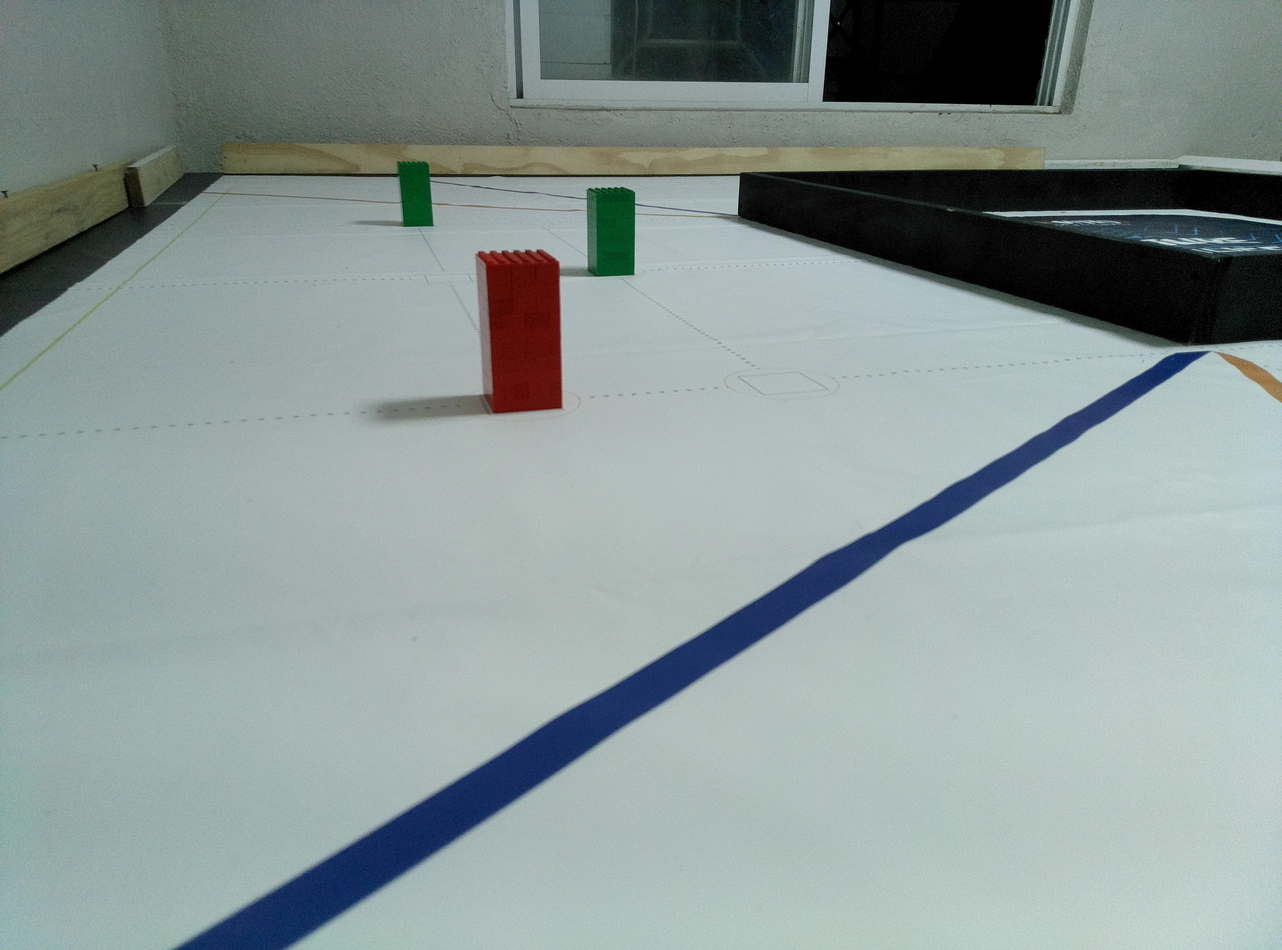greenbox: (586, 187, 636, 276), (397, 161, 434, 226)
redbox: (475, 248, 564, 415)
